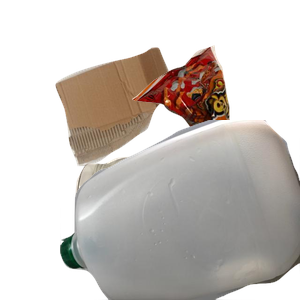cardboard: (53, 45, 221, 204)
glass: (73, 153, 284, 300)
plastic: (60, 120, 300, 300)
trash: (130, 43, 300, 190)
